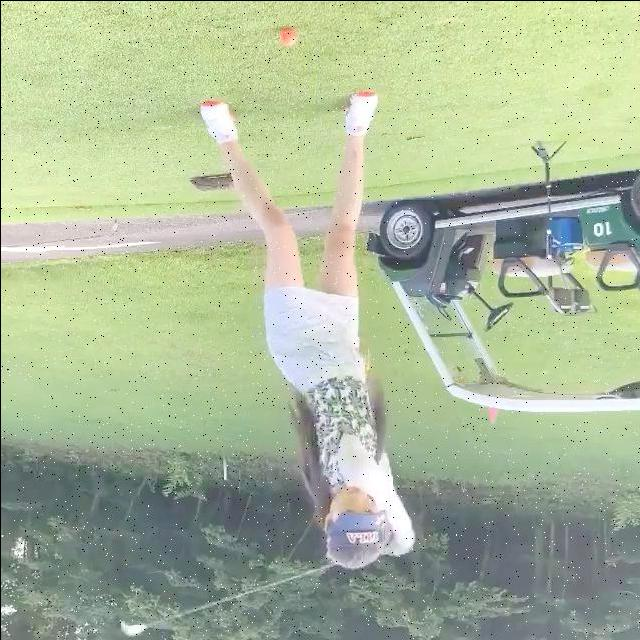golf ball: (276, 27, 296, 45)
golf club-handle: (116, 540, 410, 639)
golf club-head: (118, 621, 143, 635)
